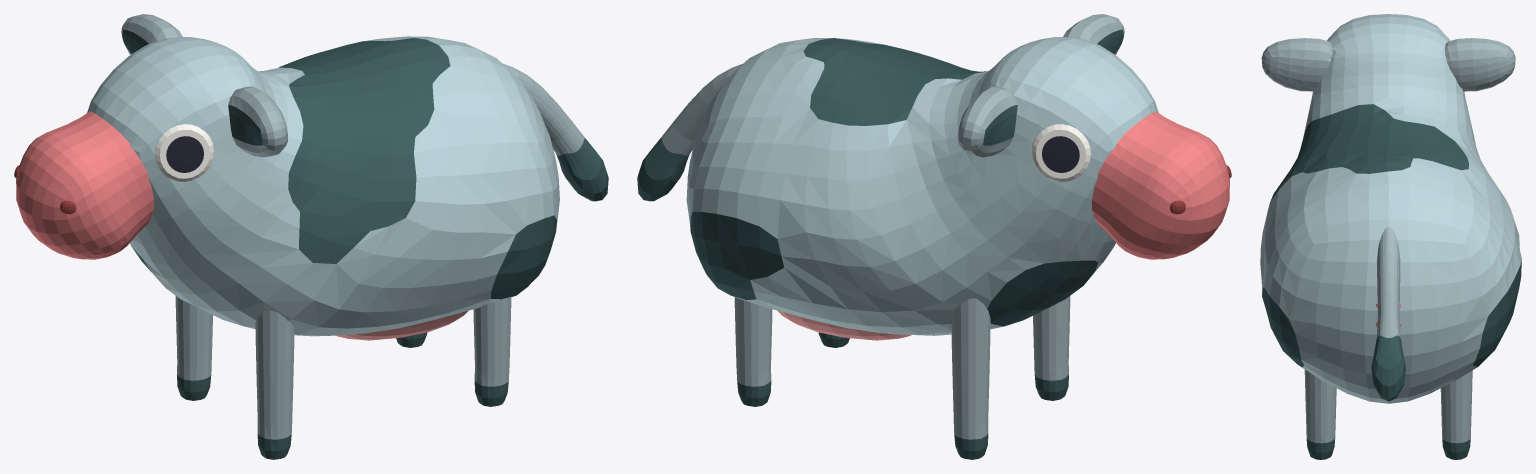
File: Cow_LOD0.fbx
3 views of the same model, side by side, from view 1: azimuth 30°, elevation 25°; view 2: azimuth 150°, elevation 25°; view 3: azimuth 270°, elevation 25° (orthographic). The views are drawn at different scales.
Visible parts, largest first — view 1: Mesh; view 2: Mesh; view 3: Mesh.
Part boxes in pixels (x1,y1,x2,y2): Mesh: (14,14,608,459); Mesh: (637,14,1231,459); Mesh: (1260,14,1521,459).
Bounding box in the file's own units: 365 × 234 × 169.
1 material, 1 textured.
